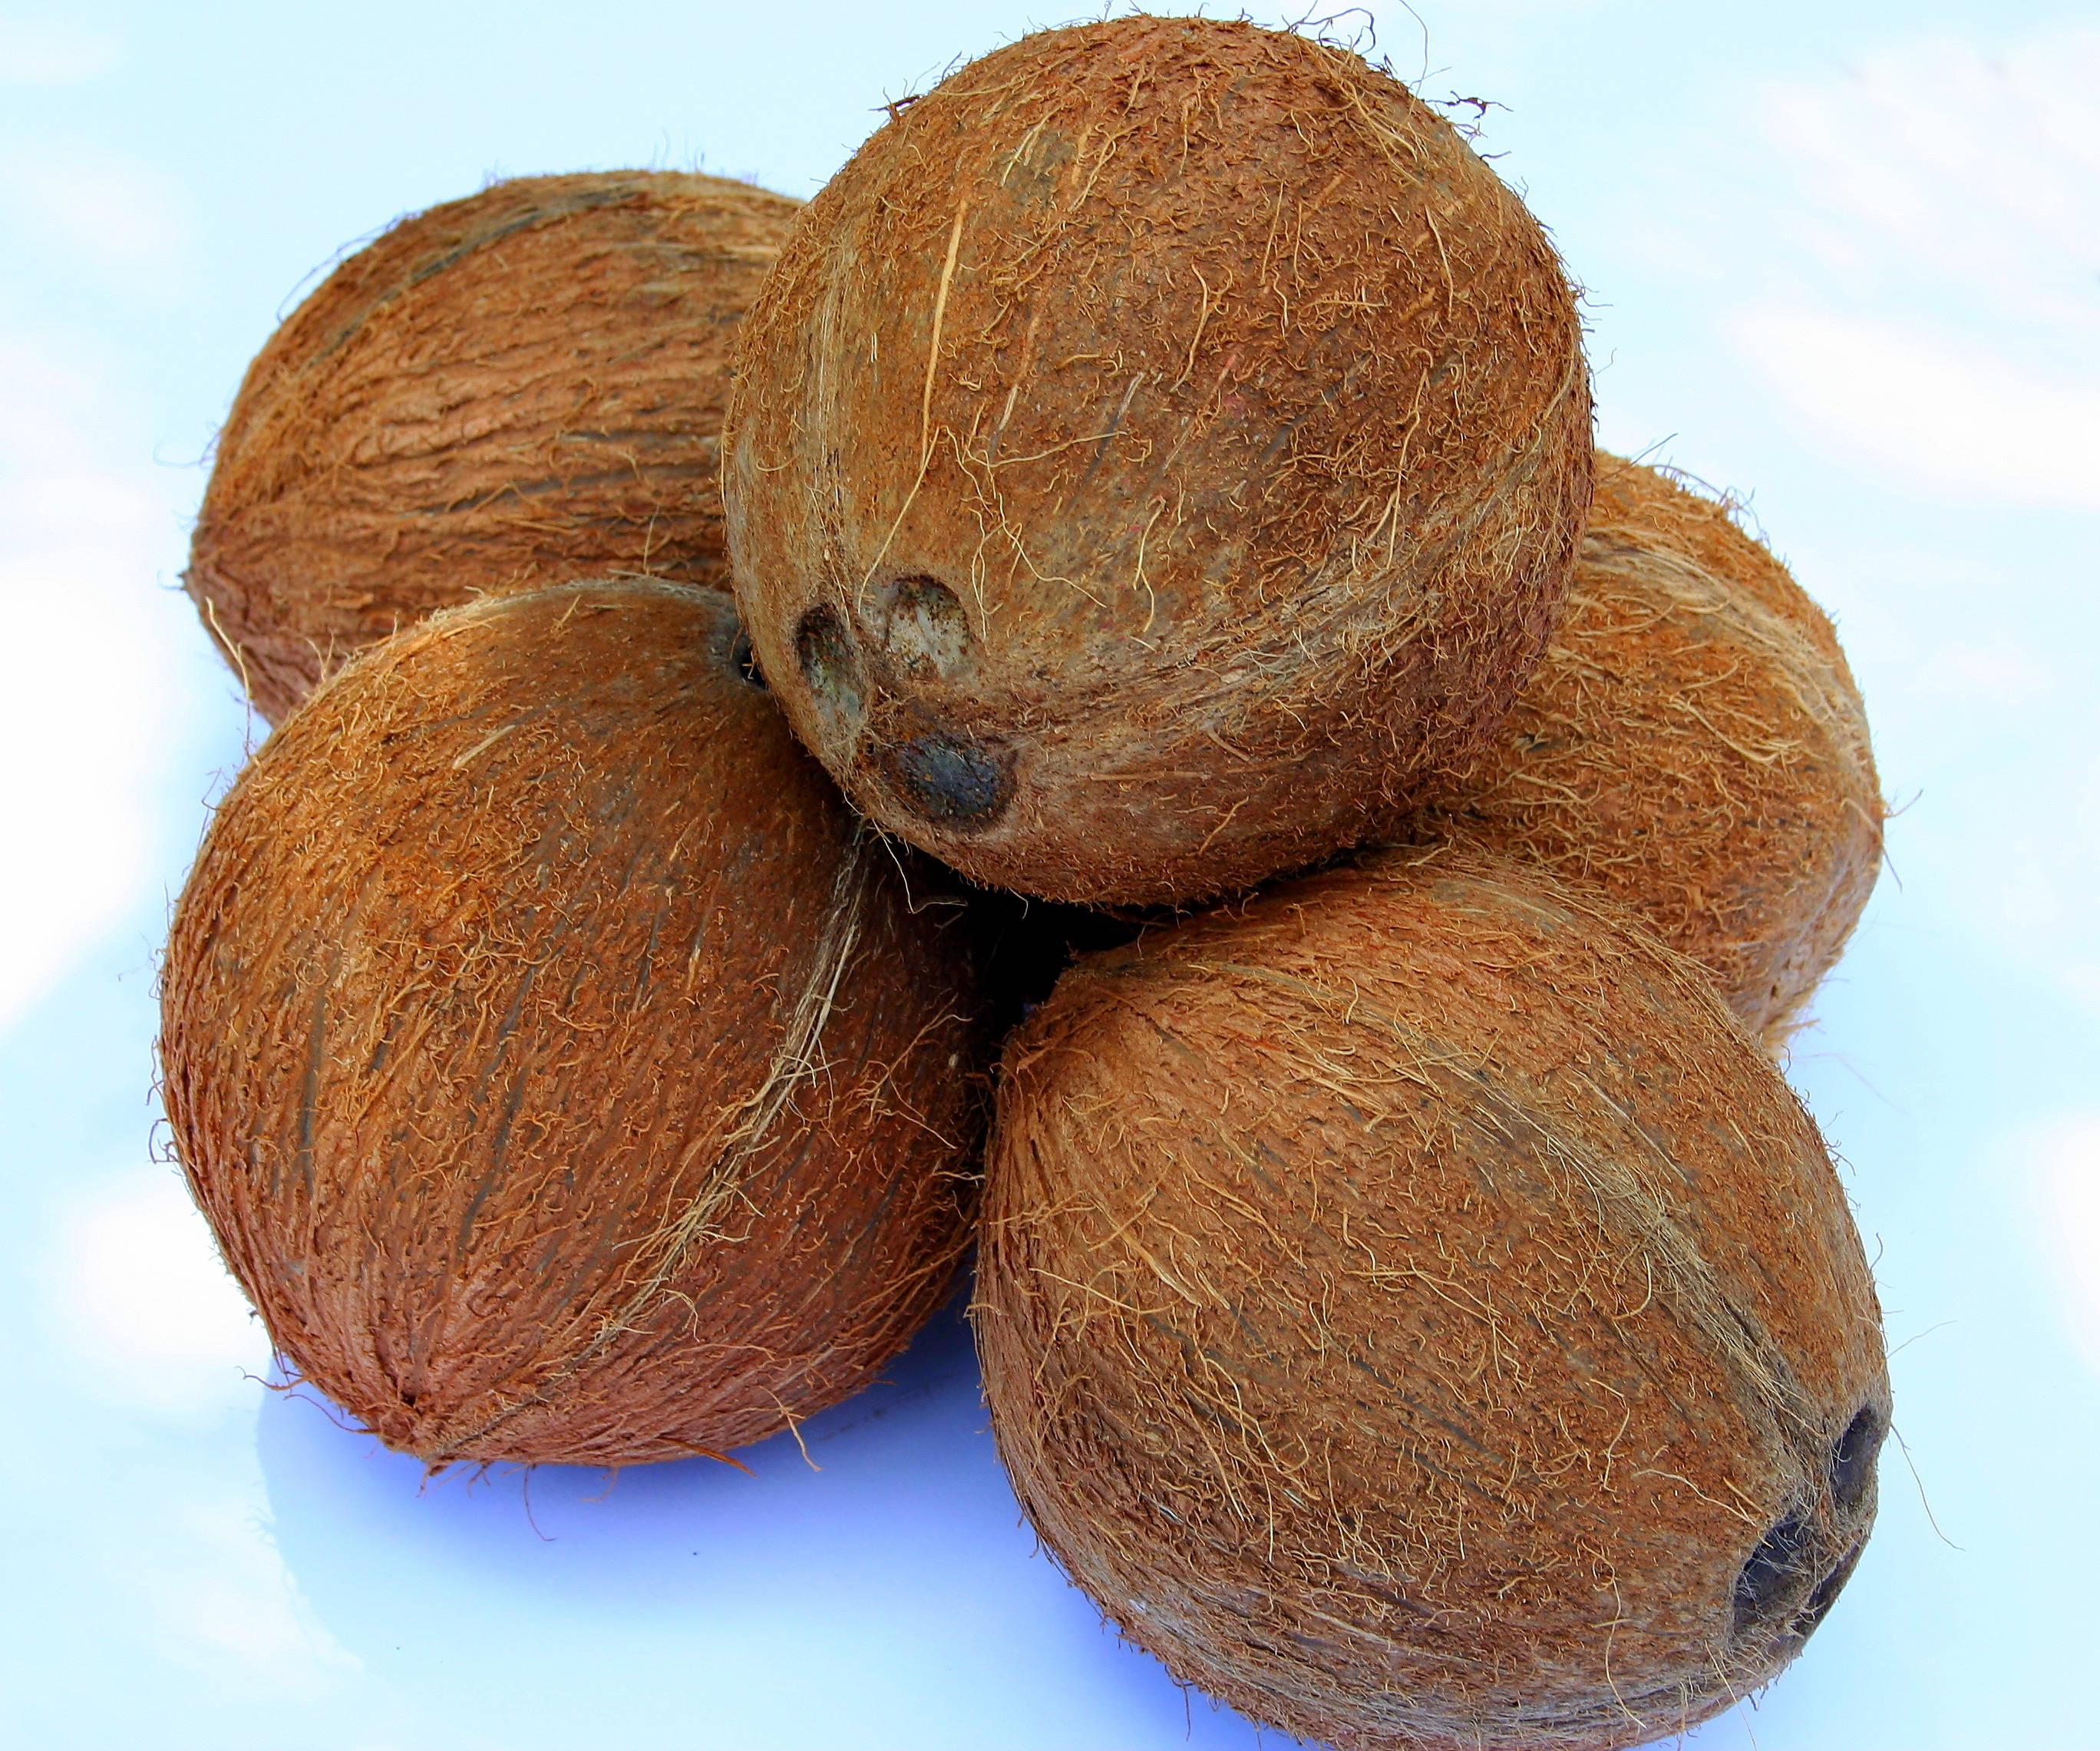coconut: (996, 900, 1898, 1742), (153, 589, 972, 1493), (748, 45, 1575, 877), (178, 159, 863, 760), (1374, 471, 1908, 1069)
